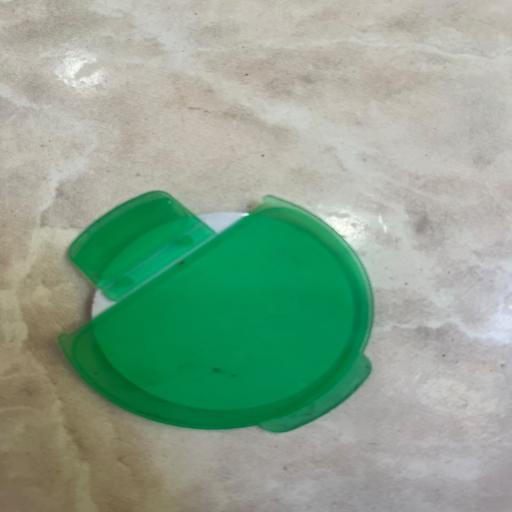HDPE: (12, 168, 453, 467)
